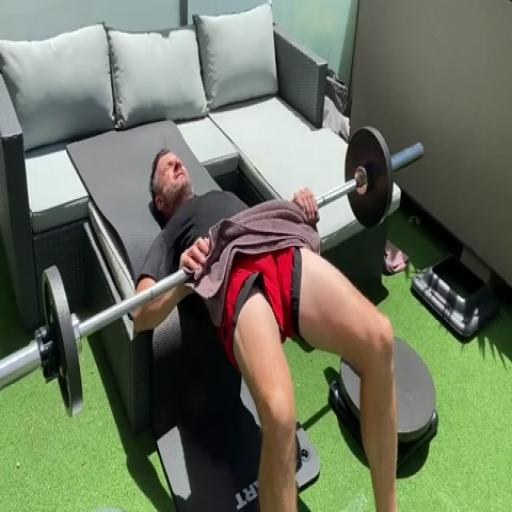exercise: (130, 145, 408, 511)
